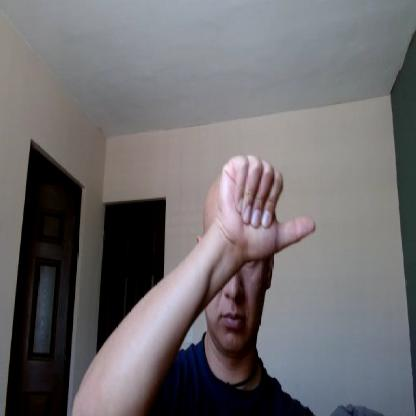A: (219, 154, 316, 259)
